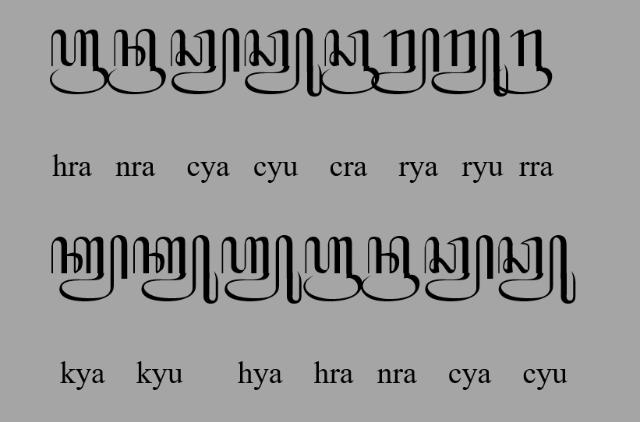cr: (320, 29, 380, 95)
cy: (170, 26, 242, 95), (425, 235, 495, 303)
cyu: (244, 27, 322, 97), (498, 235, 576, 305)
hr: (303, 235, 363, 302), (50, 29, 109, 94)
hy: (222, 235, 302, 305)
ky: (51, 234, 128, 302)
kyu: (133, 234, 219, 305)
nr: (106, 28, 166, 95), (361, 235, 421, 302)
rr: (493, 28, 552, 95)
ry: (372, 28, 441, 96)
ryu: (432, 28, 510, 97)
